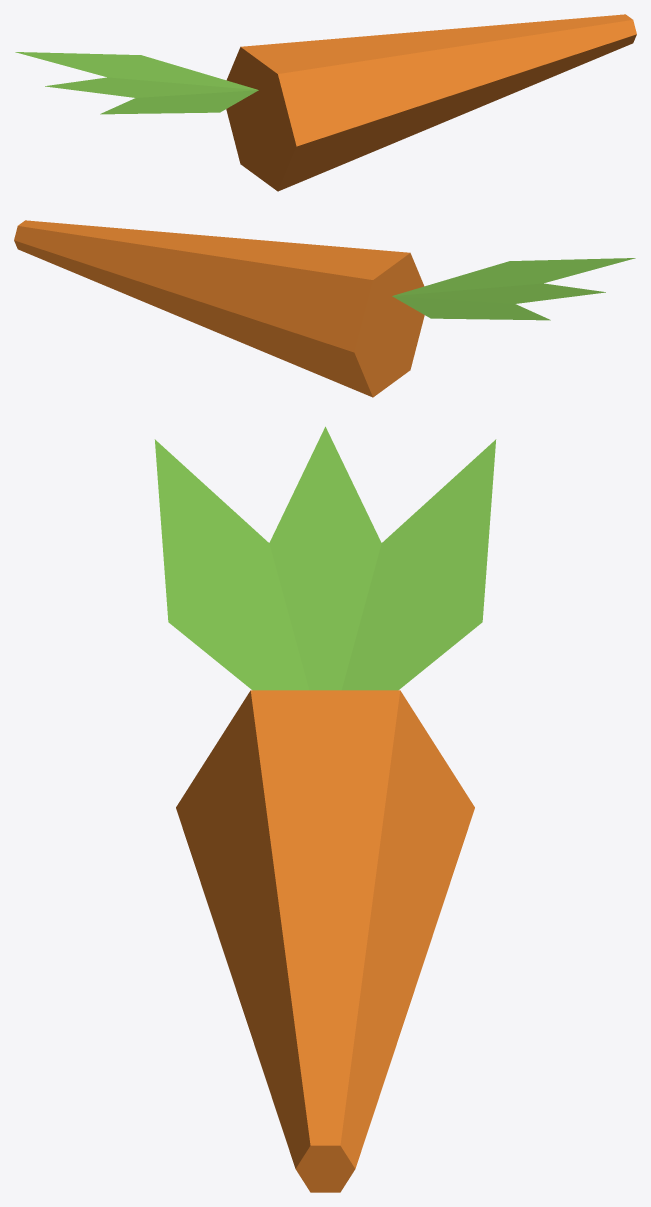
The model's file is carrot.glb.
The picture shows the model from 3 angles, top to bottom: view 1: azimuth 30°, elevation 25°; view 2: azimuth 150°, elevation 25°; view 3: azimuth 270°, elevation 25°; orthographic projection. The views are drawn at different scales.
Parts seen in each view (by area): view 1: carrot; view 2: carrot; view 3: carrot.
Boxes of the visible parts, x1=… form: carrot: x1=15, y1=14, x2=636, y2=191; carrot: x1=14, y1=220, x2=635, y2=397; carrot: x1=154, y1=426, x2=496, y2=1192.
Size of the model in its own units: 0.3164 by 0.0744 by 0.0798.
Materials: 1 (1 with a texture image).
